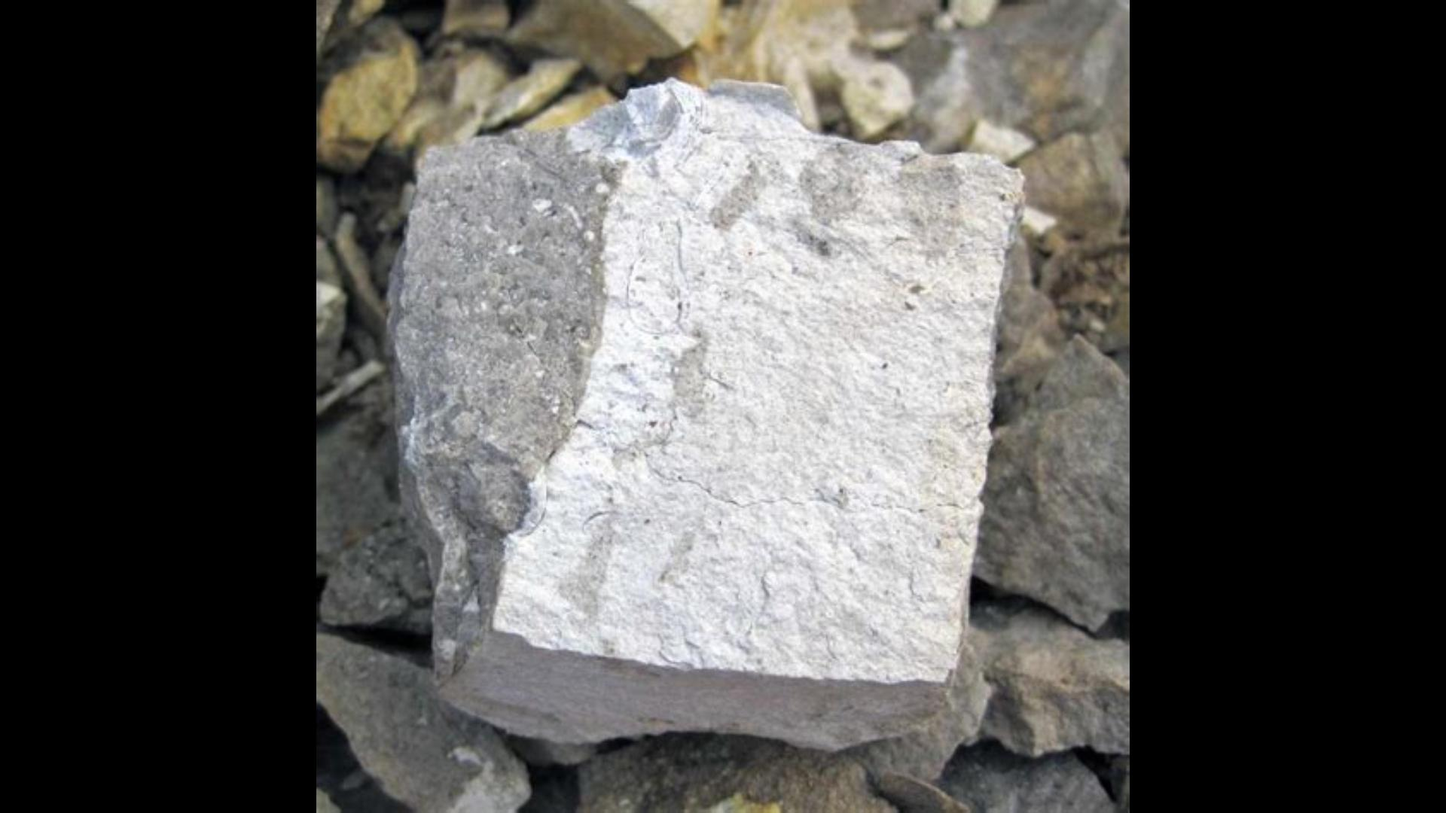rock: (394, 81, 1018, 746)
